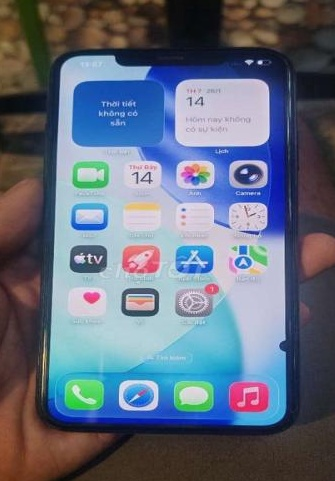screen_defect: (276, 330, 306, 364)
